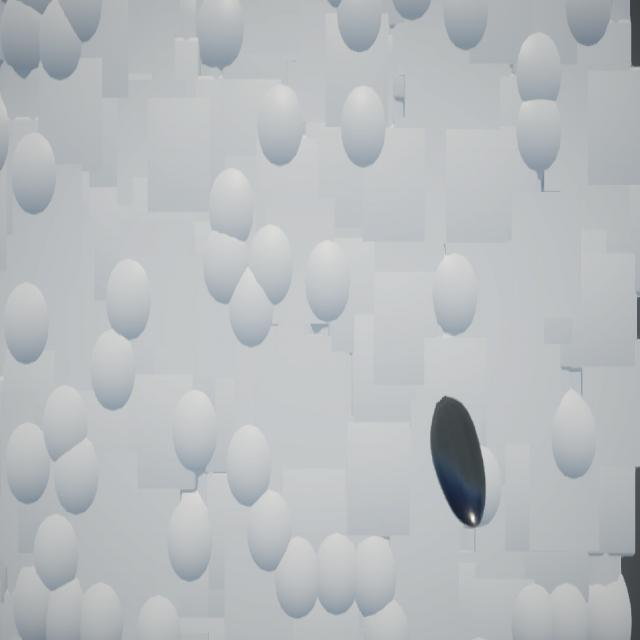top_spoon: (431, 396, 487, 529)
